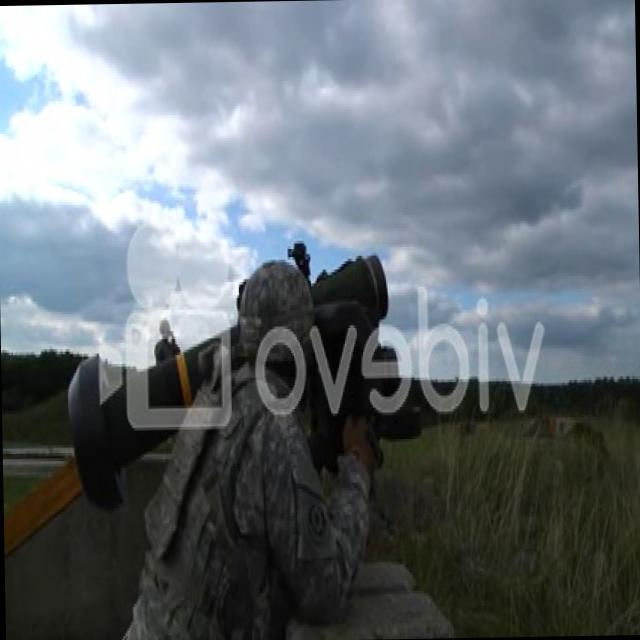rocket: (68, 329, 236, 516)
